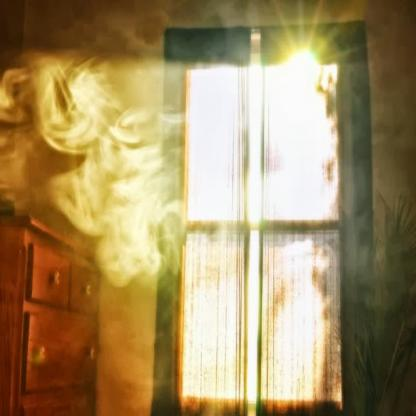smoke: (0, 19, 354, 335)
